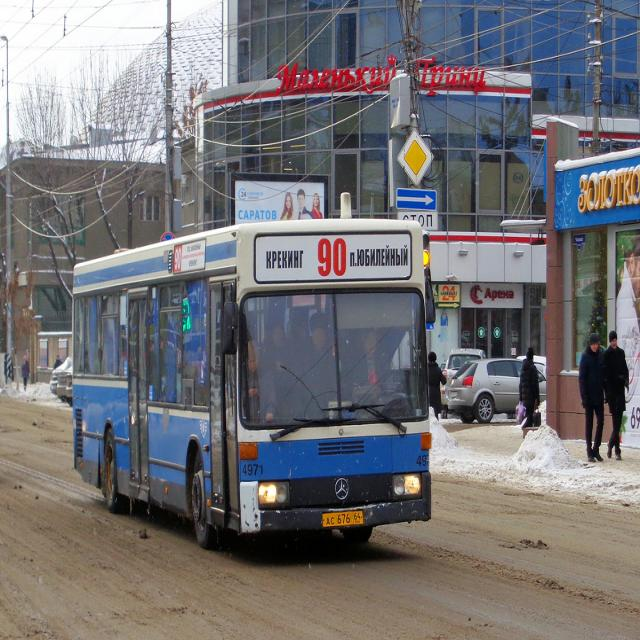number-of-bus: (317, 236, 349, 281), (175, 248, 183, 272)
